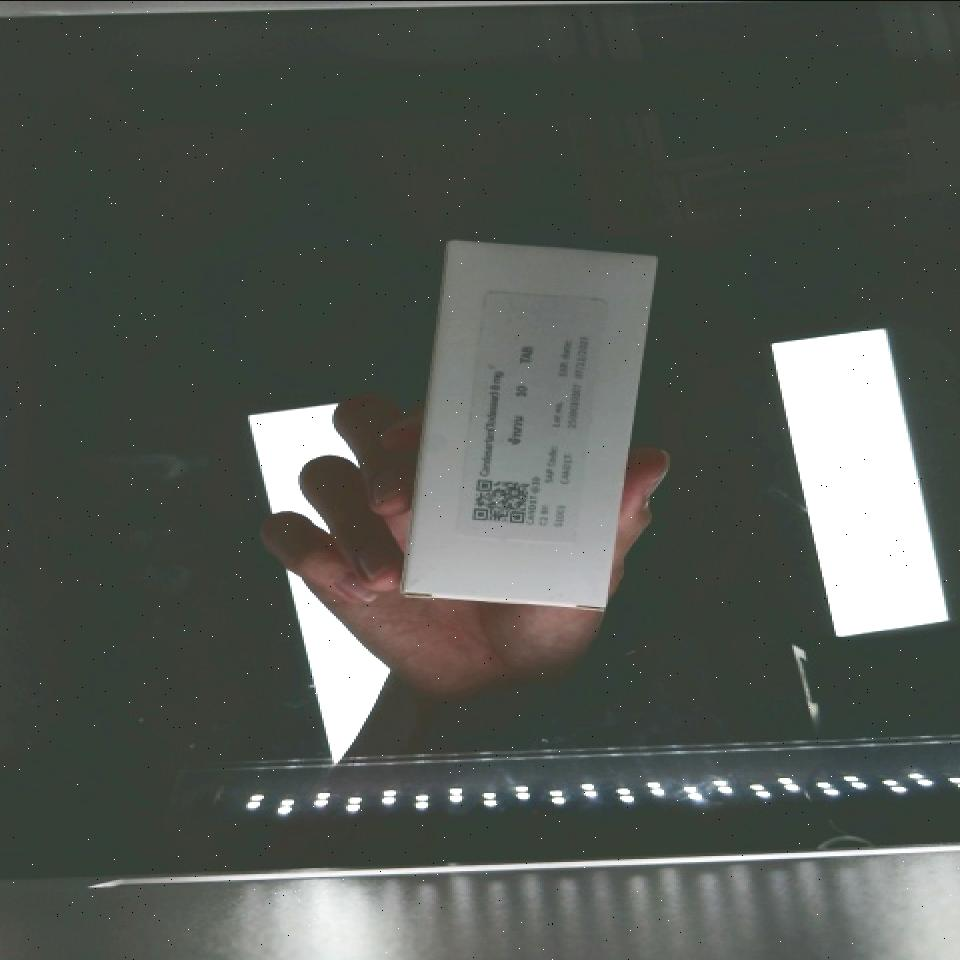medicine_box: (394, 221, 656, 625)
qr_code: (455, 462, 551, 538)
